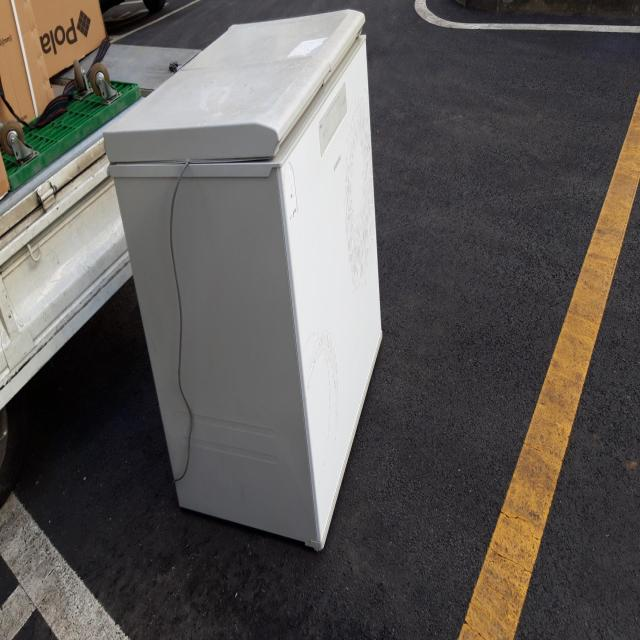refrigerator: (102, 9, 382, 552)
